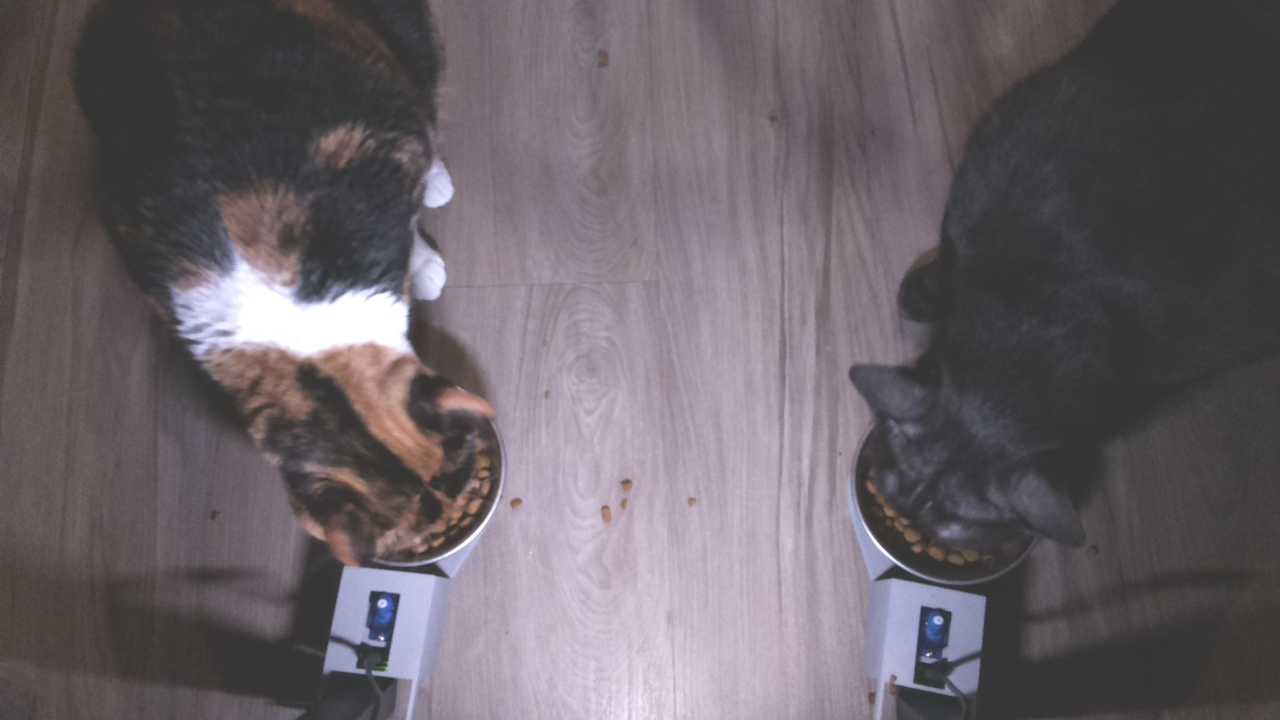bella_eating: (207, 270, 522, 592)
saki_eating: (845, 313, 1107, 597)
